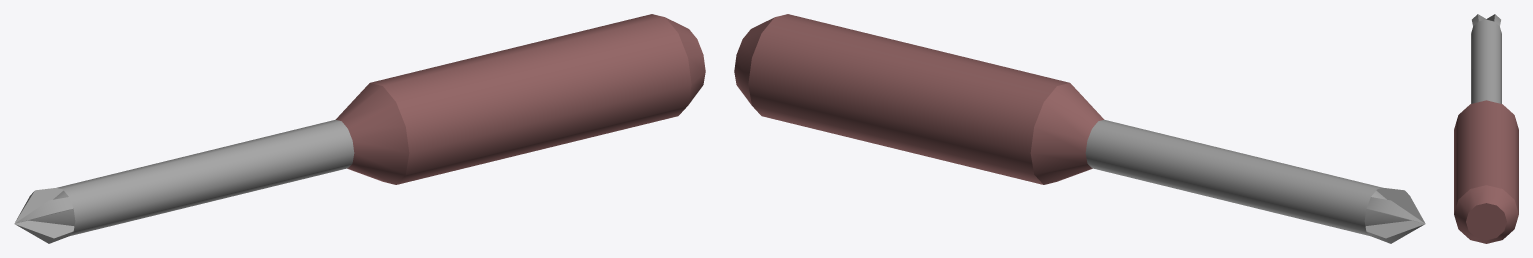
File: Screwdriver.fbx
3 renders of one model, left to right at view 1: azimuth 30°, elevation 25°; view 2: azimuth 150°, elevation 25°; view 3: azimuth 270°, elevation 25°, orthographic. The views are drawn at different scales.
Parts seen in each view (by area): view 1: pCylinder1; view 2: pCylinder1; view 3: pCylinder1.
Part boxes in pixels (x1,y1,x2,y2): pCylinder1: (14, 14, 705, 243); pCylinder1: (734, 14, 1425, 243); pCylinder1: (1454, 14, 1518, 243).
Size of the model in its own units: 36.67 by 4.97 by 4.97.
